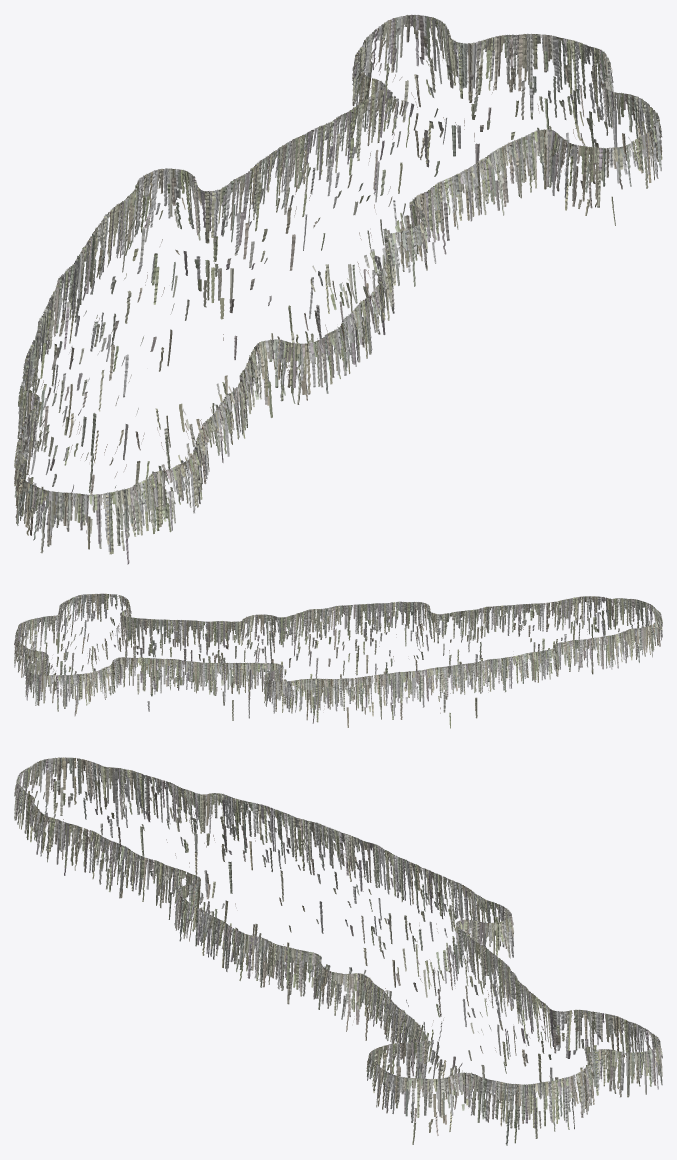
File: SM_H11_Vines.fbx
The picture shows the model from 3 angles, top to bottom: view 1: azimuth 30°, elevation 25°; view 2: azimuth 150°, elevation 25°; view 3: azimuth 270°, elevation 25°; orthographic projection. The views are drawn at different scales.
Visible parts, largest first — view 1: SM_H11_Vines; view 2: SM_H11_Vines; view 3: SM_H11_Vines.
Boxes of the visible parts, x1,y1,x2,y2 form: SM_H11_Vines: [14, 14, 662, 564]; SM_H11_Vines: [14, 593, 662, 728]; SM_H11_Vines: [14, 757, 662, 1145].
Bounding box in the file's own units: 472 × 83.33 × 391.
